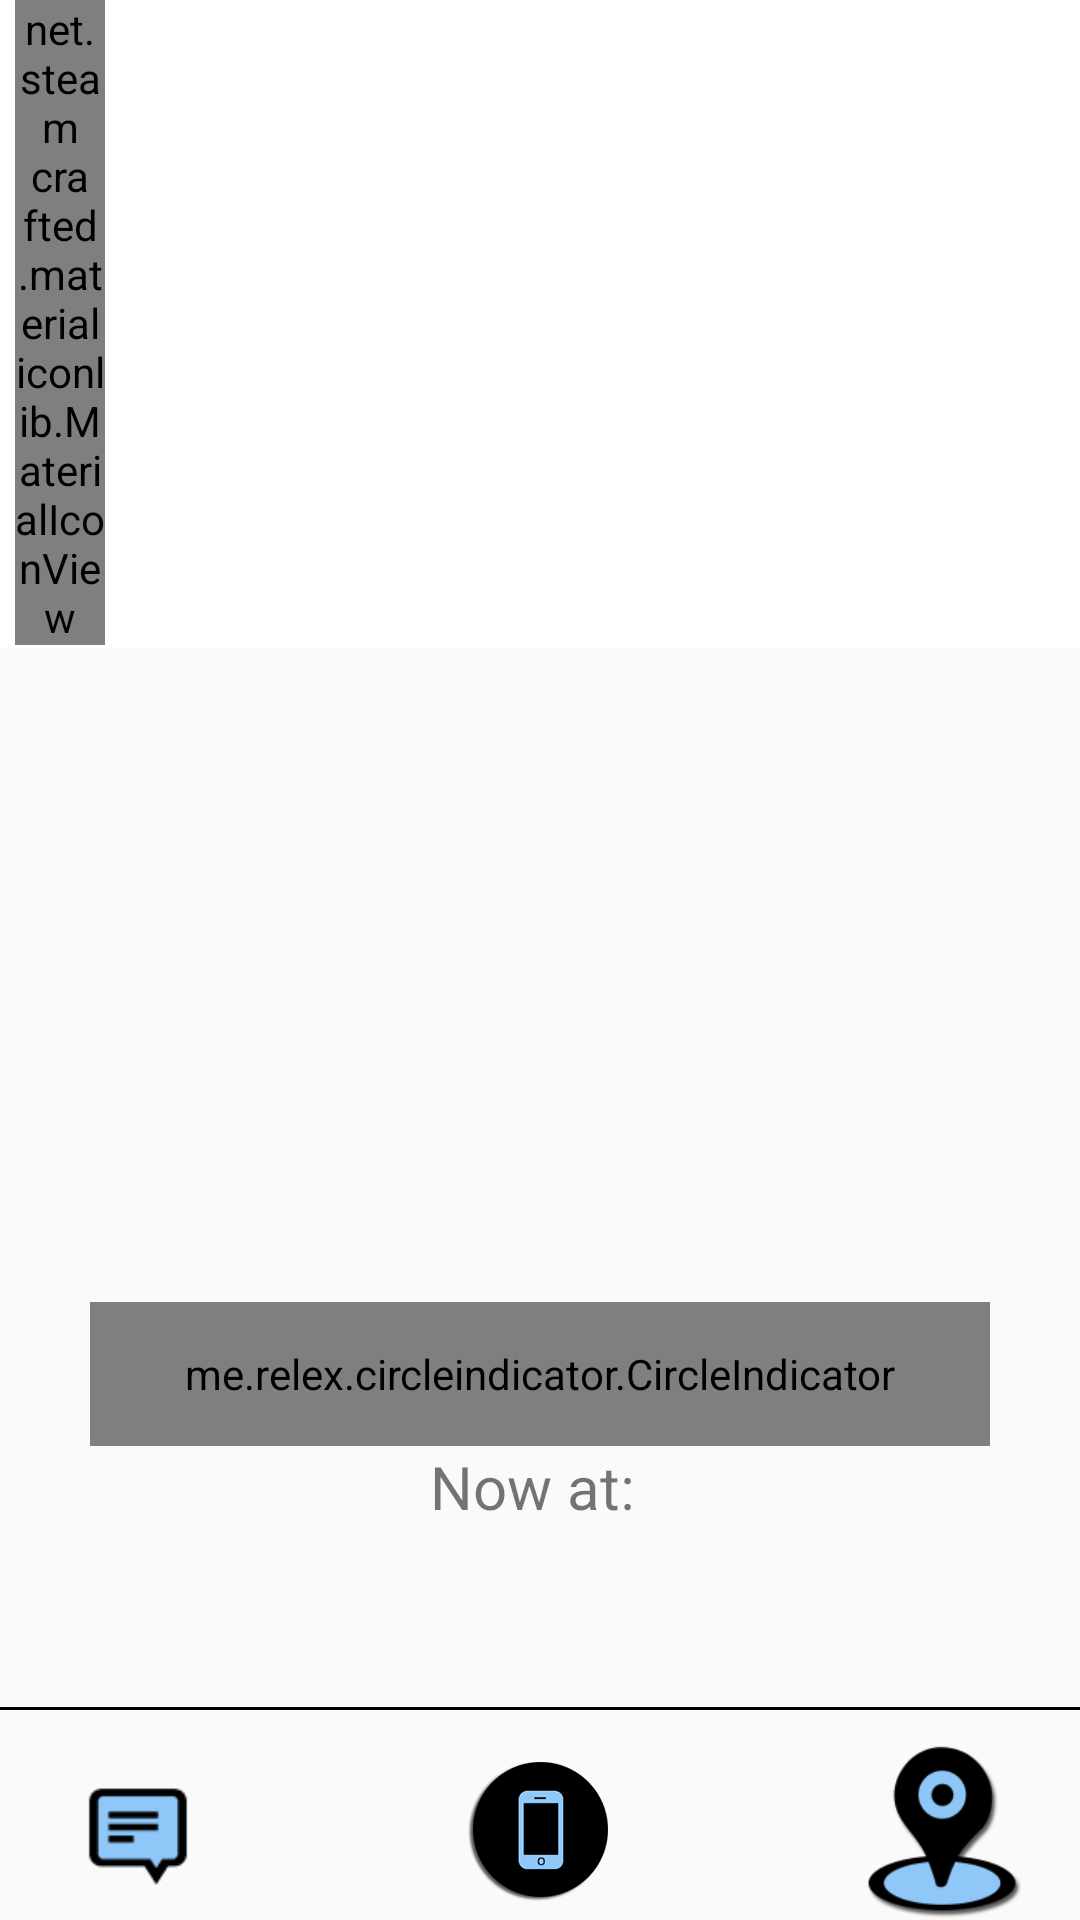

Point at icon controls on the screen. Image size 1080 x 1920, points as (x=x, y=y).
chat tab: (x=138, y=1836)
mapicon: (x=944, y=1831)
